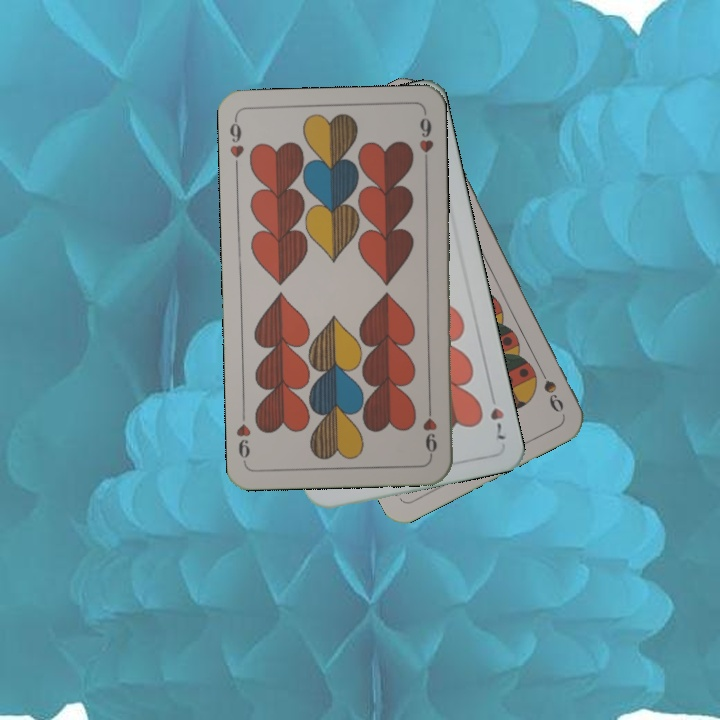H7: (486, 387, 509, 443)
H9: (418, 400, 440, 459), (225, 115, 246, 174)
S9: (533, 360, 567, 415)
